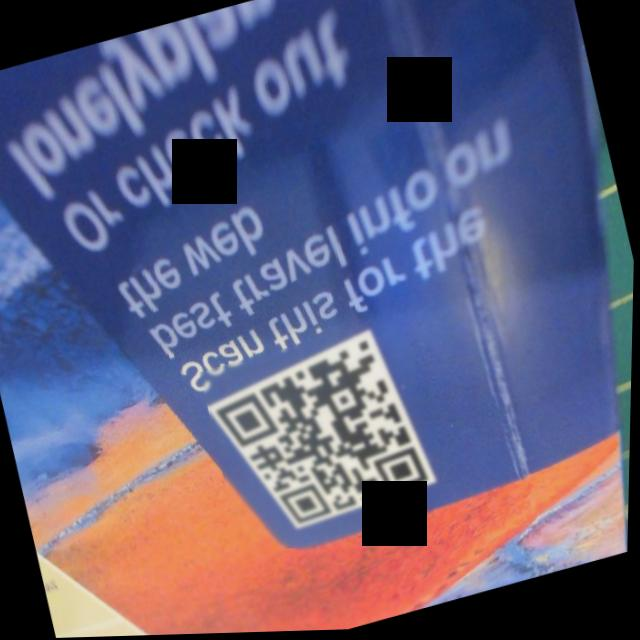QR_CODE: (198, 316, 451, 562)
